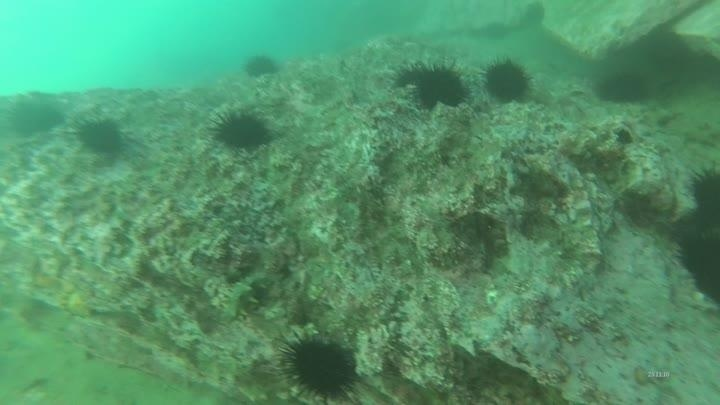echinus: (275, 328, 364, 402), (674, 227, 720, 307), (409, 60, 471, 113), (209, 106, 273, 153), (481, 55, 534, 105), (6, 96, 66, 140), (72, 114, 127, 158), (594, 68, 652, 107), (687, 163, 720, 226), (390, 59, 436, 91), (242, 52, 280, 80)
holothurian: (212, 269, 271, 326)
